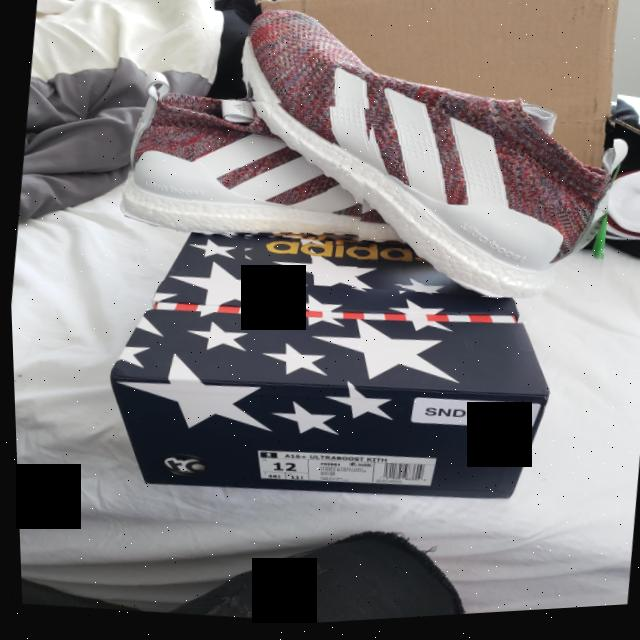shoe: (215, 0, 630, 328), (116, 84, 375, 259)
